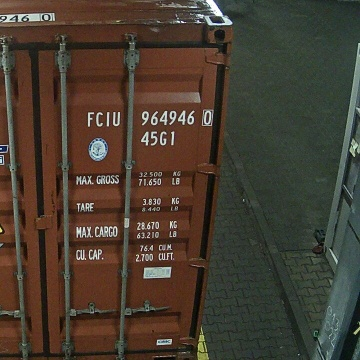serial_id: (87, 110, 211, 126)
